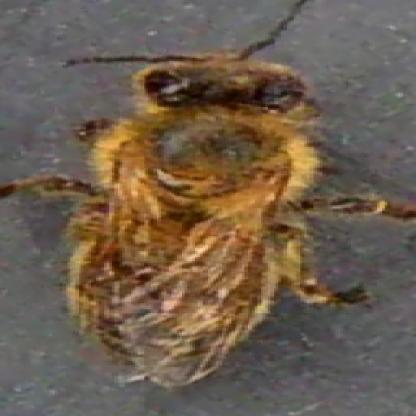bee: (58, 35, 336, 389)
